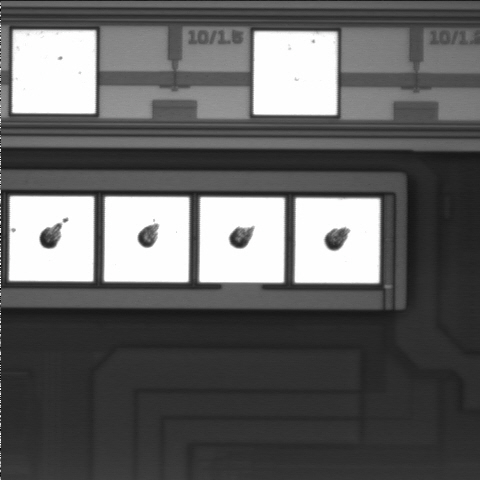pad: (199, 197, 284, 283), (9, 196, 94, 281), (104, 197, 189, 282), (295, 198, 380, 283), (12, 30, 96, 114), (254, 32, 337, 115)
